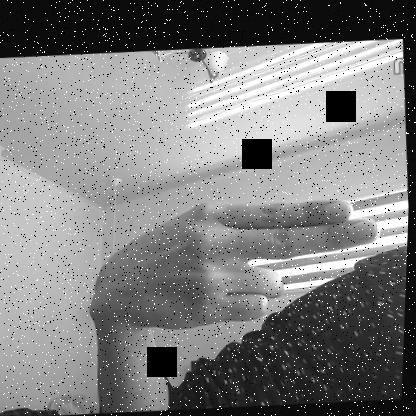H: (82, 186, 391, 338)
